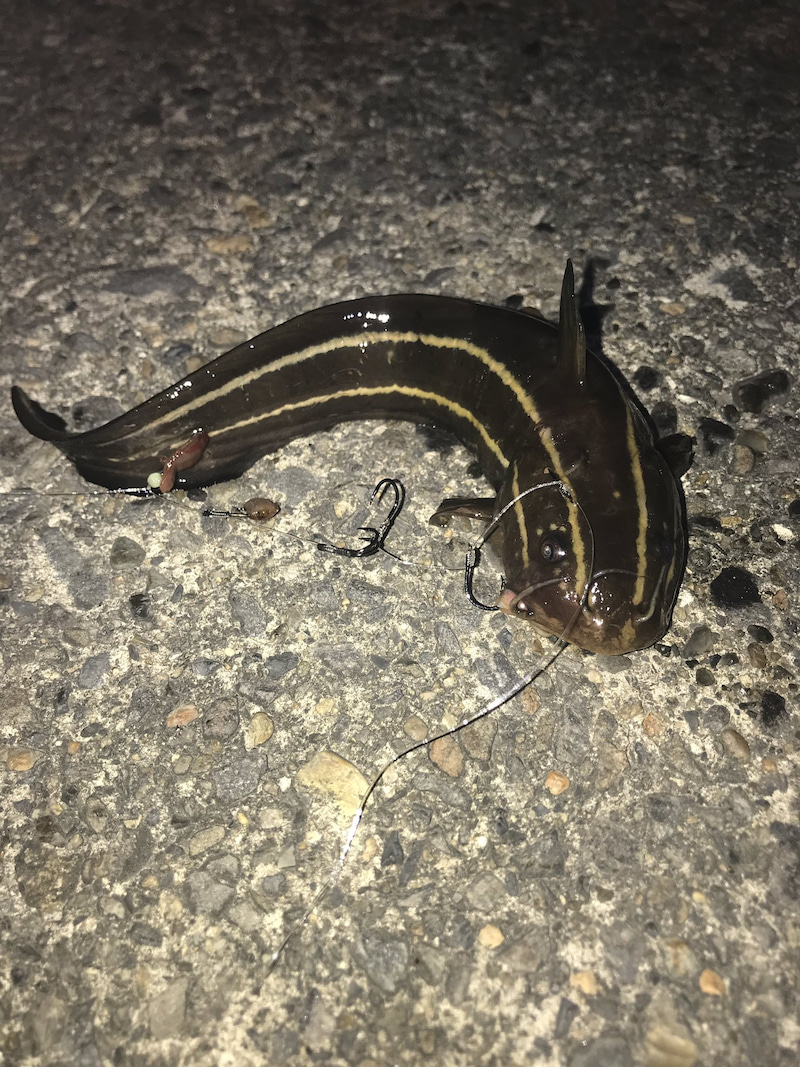gonzui: (18, 237, 724, 676)
